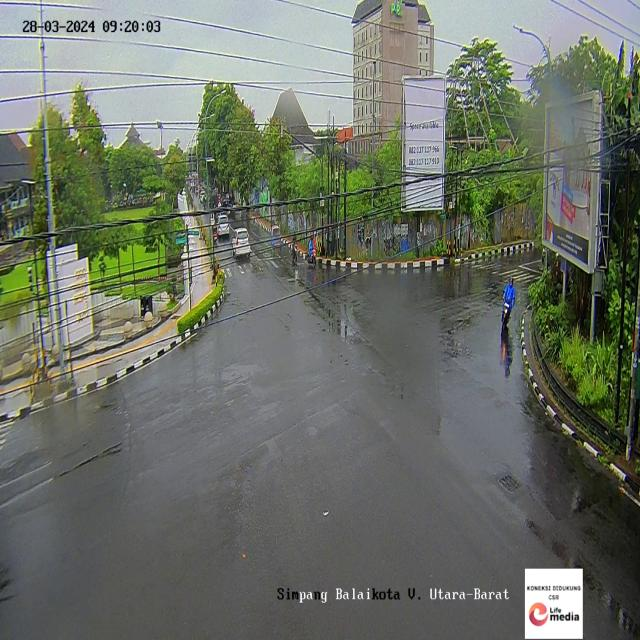car: (230, 226, 250, 263), (215, 214, 229, 240)
motorcycle: (501, 272, 517, 333), (306, 232, 318, 266), (288, 229, 298, 266)
